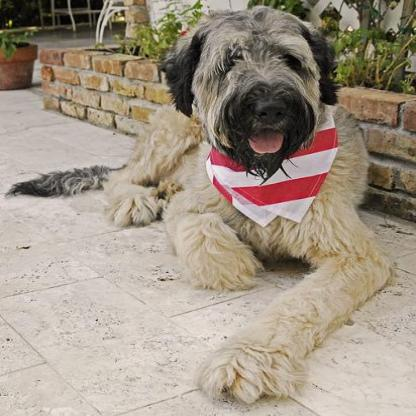briard: (5, 4, 397, 409)
